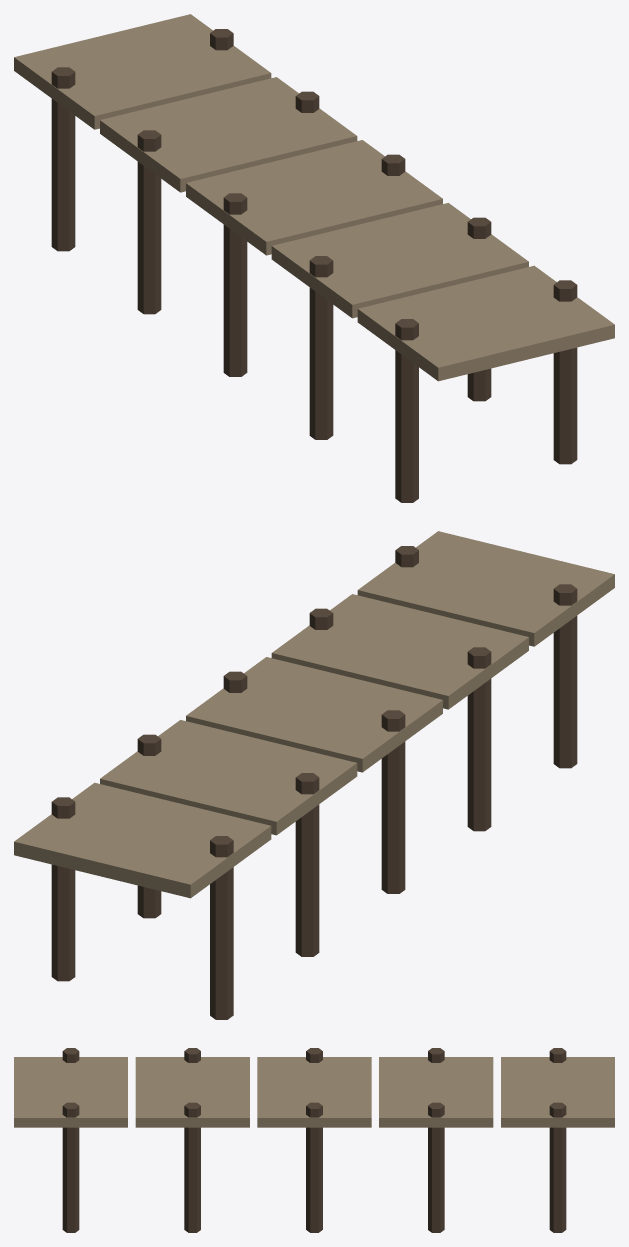
The model's file is dock.glb.
3 views of the same model, one above another, from view 1: azimuth 30°, elevation 25°; view 2: azimuth 150°, elevation 25°; view 3: azimuth 270°, elevation 25° (orthographic). The views are drawn at different scales.
Parts seen in each view (by area): view 1: dock; view 2: dock; view 3: dock.
Boxes of the visible parts, <box> form: dock: <box>14,14,614,502</box>; dock: <box>14,531,614,1019</box>; dock: <box>14,1048,614,1232</box>.
Size of the model in its own units: 1.9 by 1.8 by 7.9.
